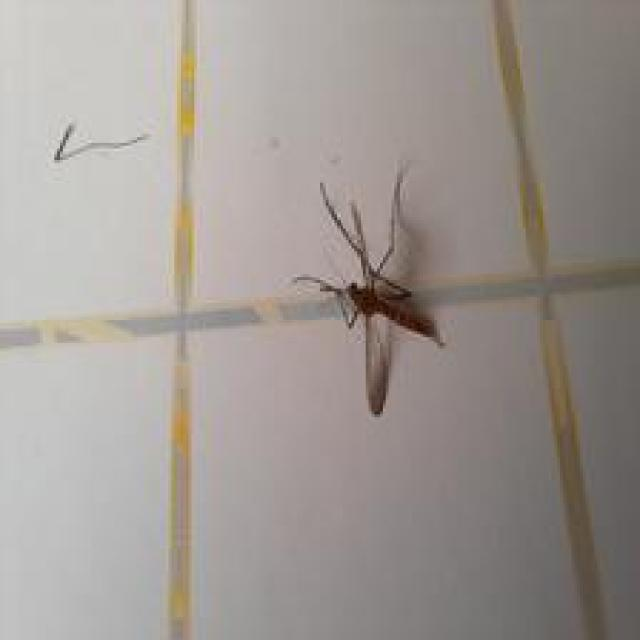Culex: (291, 161, 446, 416)
